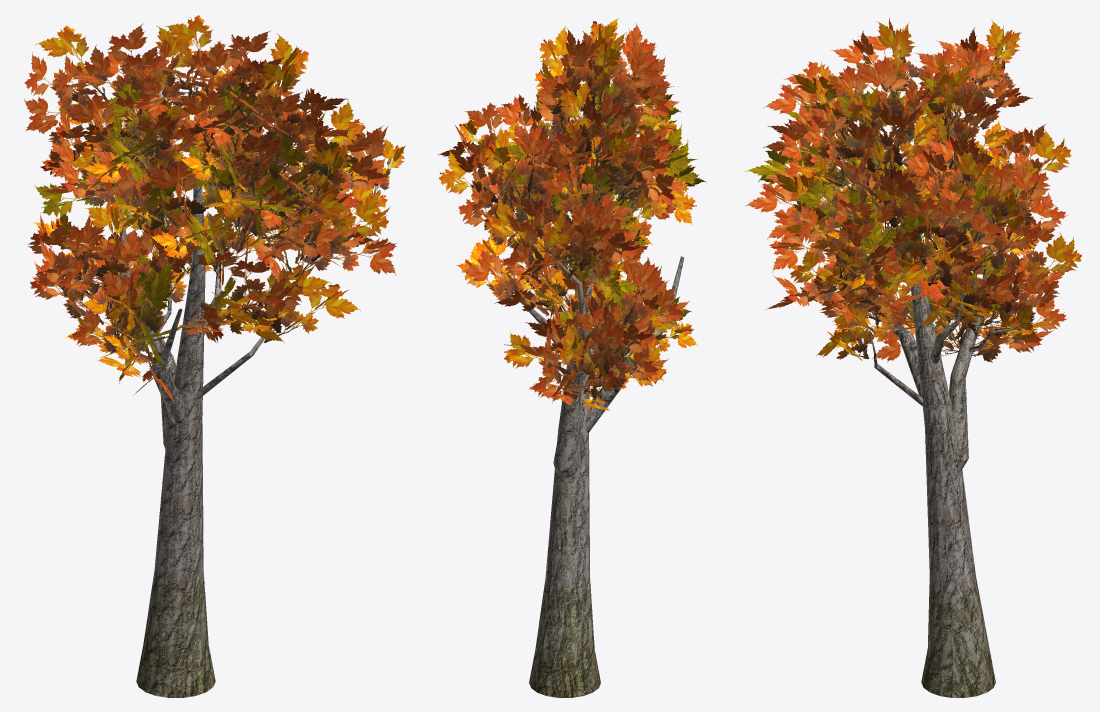
Rendered from Maple_002.glb.
3 views of the same model, side by side, from view 1: azimuth 30°, elevation 25°; view 2: azimuth 150°, elevation 25°; view 3: azimuth 270°, elevation 25° (orthographic). The views are drawn at different scales.
Parts seen in each view (by area): view 1: Plane.002, Cylinder.007; view 2: Plane.002, Cylinder.007; view 3: Plane.002, Cylinder.007.
Part boxes in pixels (x1,y1,x2,y2): Plane.002: (20, 15, 406, 402); Cylinder.007: (119, 186, 270, 697); Plane.002: (438, 17, 706, 414); Cylinder.007: (504, 199, 684, 697); Plane.002: (744, 17, 1081, 362); Cylinder.007: (835, 219, 1028, 697).
Size of the model in its own units: 0.6989 by 1.48 by 0.7124.
Materials: 3 (3 with a texture image).
